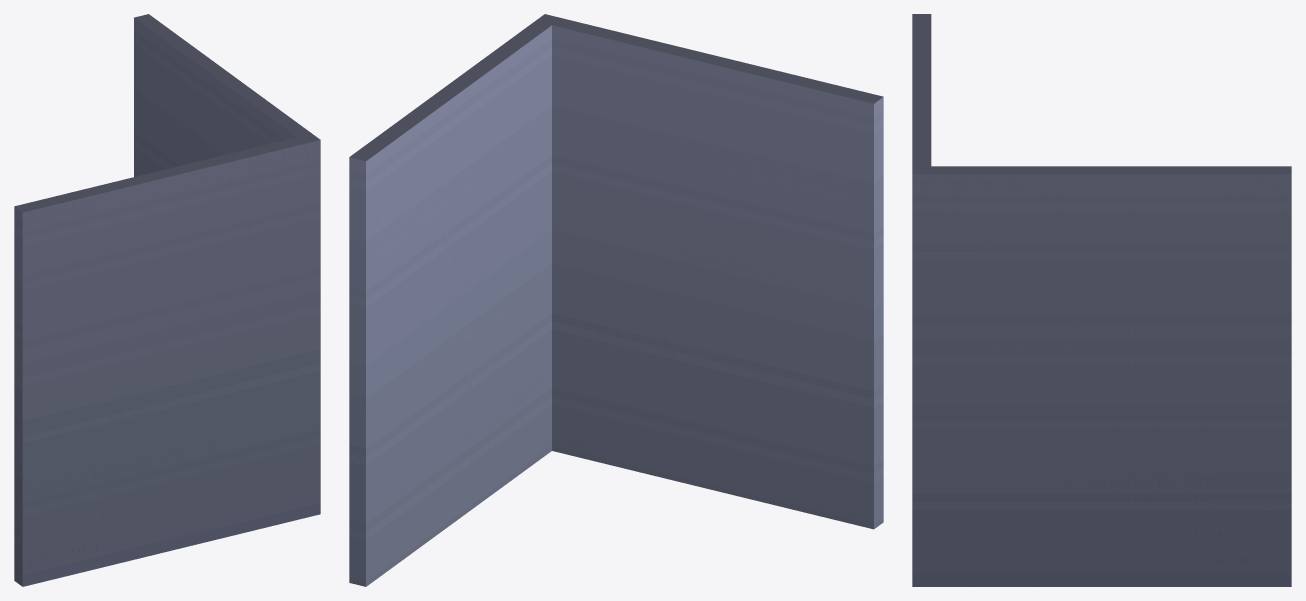
File: wall-corner.glb
3 views of the same model, side by side, from view 1: azimuth 30°, elevation 25°; view 2: azimuth 150°, elevation 25°; view 3: azimuth 270°, elevation 25° (orthographic). The views are drawn at different scales.
Visible parts, largest first — view 1: wall-corner; view 2: wall-corner; view 3: wall-corner.
Part boxes in pixels (x1,y1,x2,y2): wall-corner: (14, 14, 320, 586); wall-corner: (349, 14, 883, 586); wall-corner: (912, 14, 1291, 586).
Bounding box in the file's own units: 2 × 2.4 × 2.
1 material, 1 textured.
